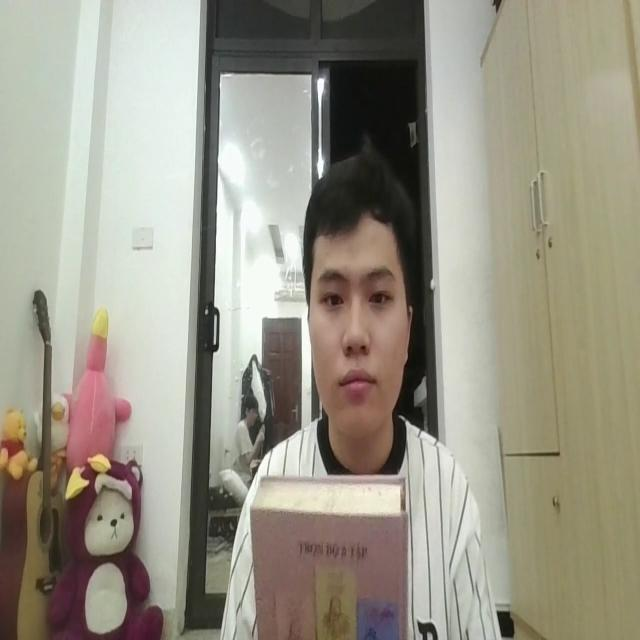book: (251, 468, 414, 640)
student: (211, 150, 503, 640)
